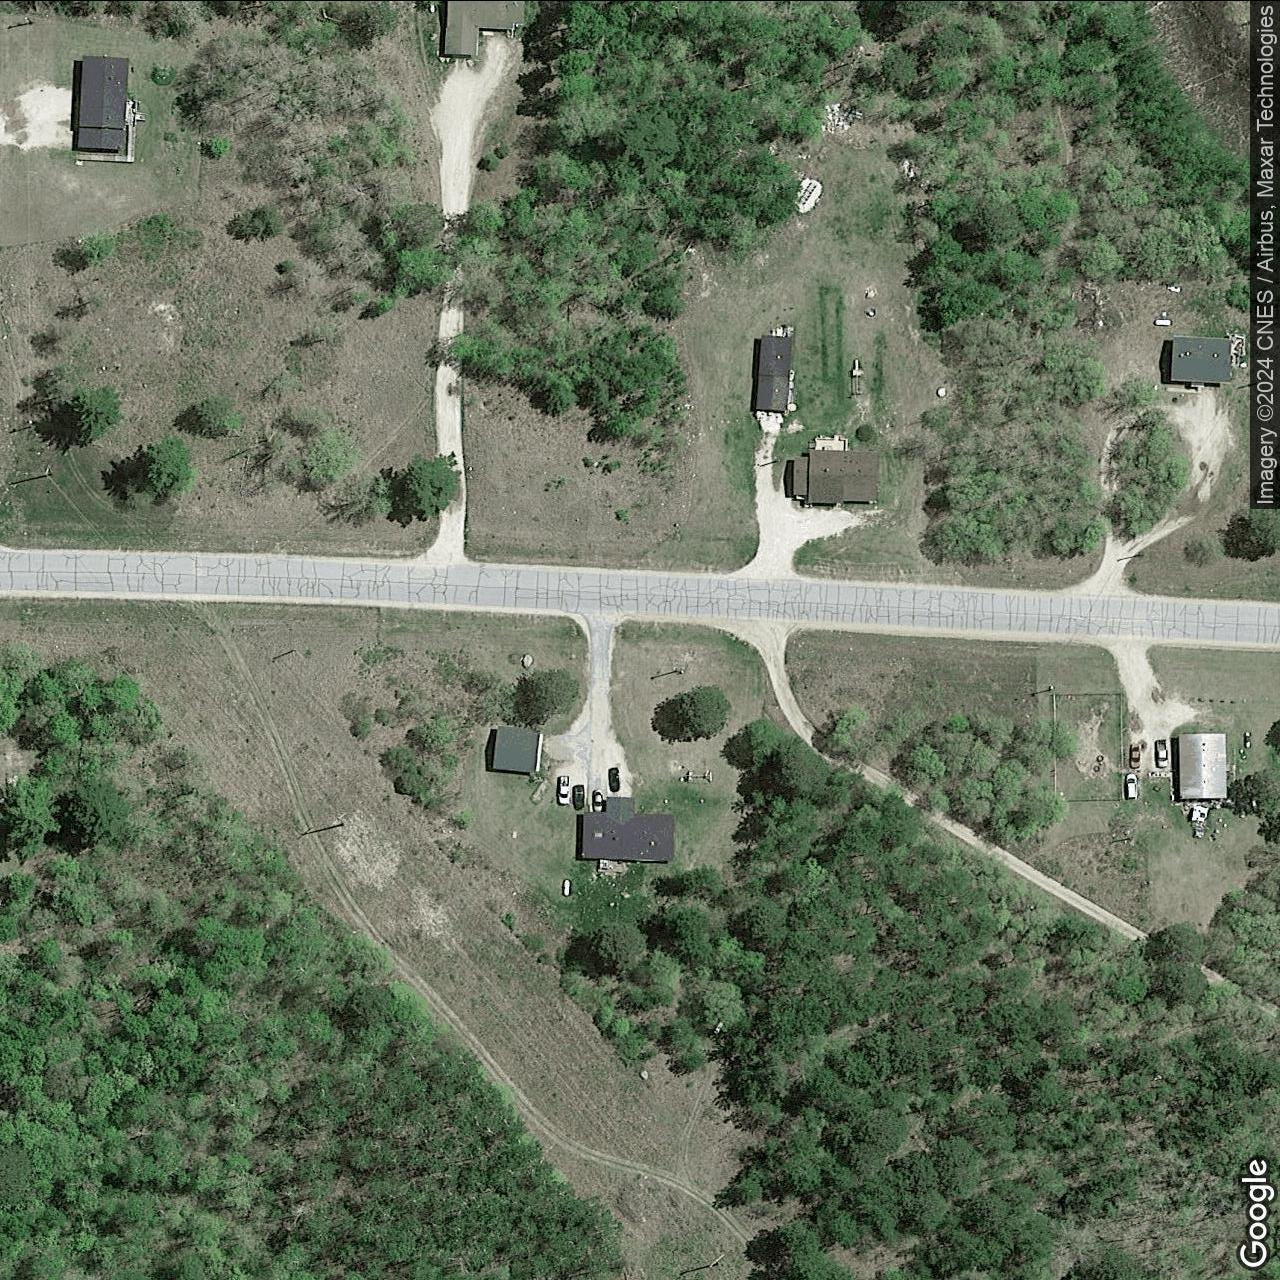Garage: (756, 334, 792, 410), (491, 723, 540, 774)
House: (580, 796, 675, 863), (75, 53, 130, 151), (792, 448, 879, 502), (444, 1, 525, 55), (1176, 729, 1228, 802), (1170, 333, 1233, 383)
Propane: (1242, 728, 1253, 750), (561, 876, 572, 898), (1150, 318, 1173, 326), (428, 1, 438, 14)
